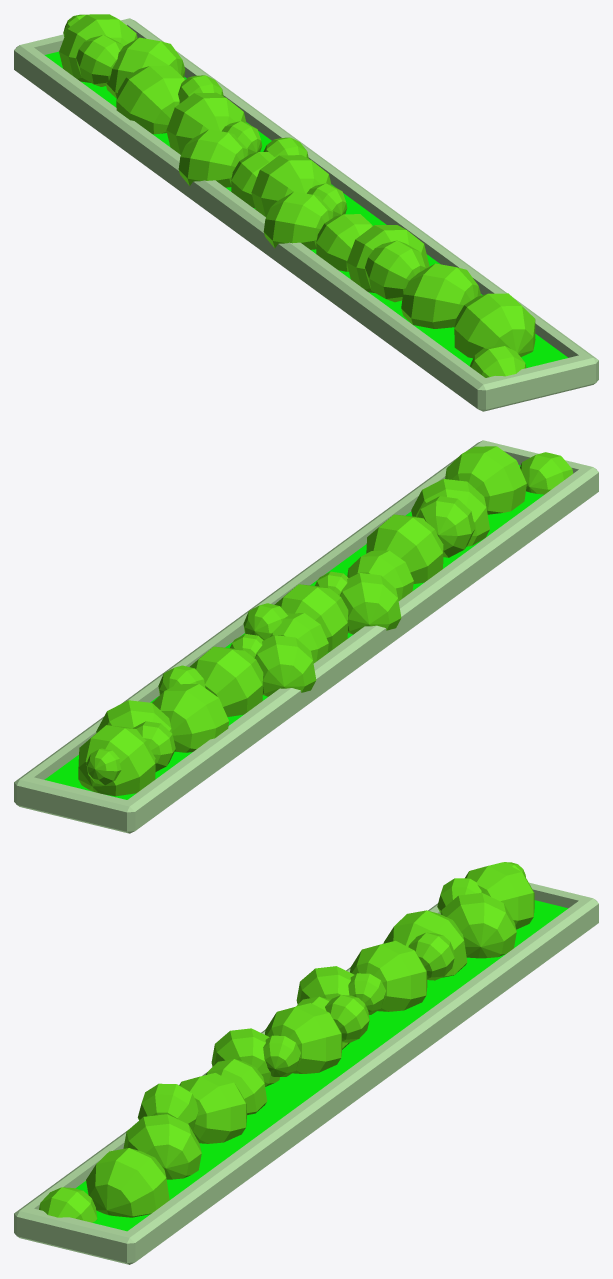
File: bushbed.glb
The picture shows the model from 3 angles, top to bottom: view 1: azimuth 30°, elevation 25°; view 2: azimuth 150°, elevation 25°; view 3: azimuth 330°, elevation 25°; orthographic projection.
Visible parts, largest first — view 1: Bed_2.001; view 2: Bed_2.001; view 3: Bed_2.001.
Boxes of the visible parts, <box> form: Bed_2.001: <box>14,14,598,411</box>; Bed_2.001: <box>14,440,598,833</box>; Bed_2.001: <box>14,862,598,1264</box>.
Size of the model in its own units: 0.8557 by 0.5523 by 5.56.
